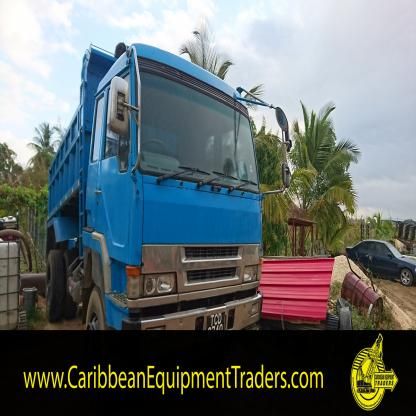truck: (42, 43, 261, 333)
